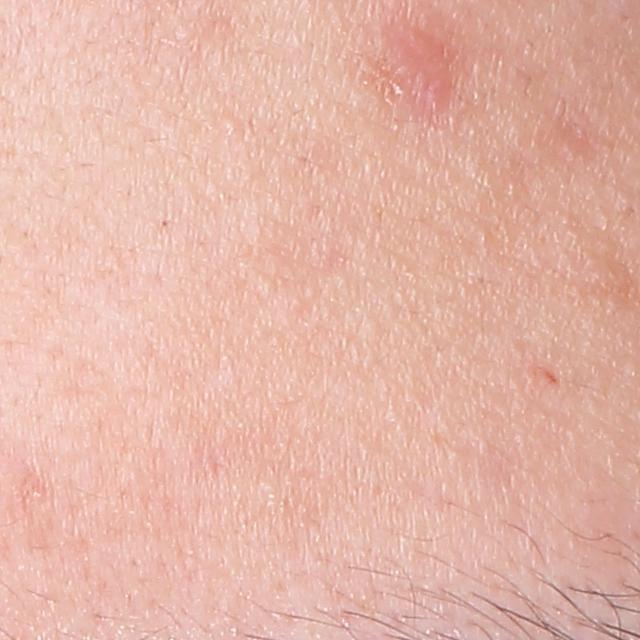papule: (378, 18, 457, 114)
